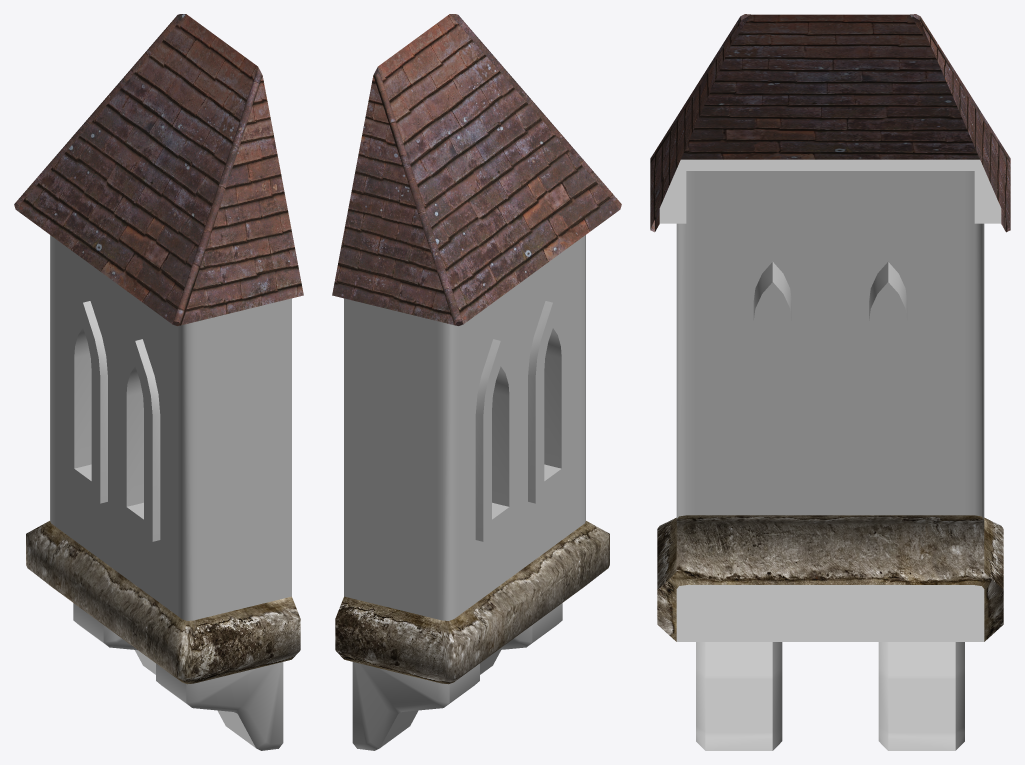
Rendered from SM_CAS_Window_01.FBX.
The picture shows the model from 3 angles, left to right: view 1: azimuth 30°, elevation 25°; view 2: azimuth 150°, elevation 25°; view 3: azimuth 270°, elevation 25°; orthographic projection. The views are drawn at different scales.
Visible parts, largest first — view 1: SM_CAS_Window_01; view 2: SM_CAS_Window_01; view 3: SM_CAS_Window_01.
Part boxes in pixels (left/top/right/bottom): SM_CAS_Window_01: left=14, top=14, right=303, bottom=750; SM_CAS_Window_01: left=332, top=14, right=621, bottom=750; SM_CAS_Window_01: left=650, top=14, right=1010, bottom=750.
Size of what is drawn, in the model's own units: 136 by 300 by 676.
